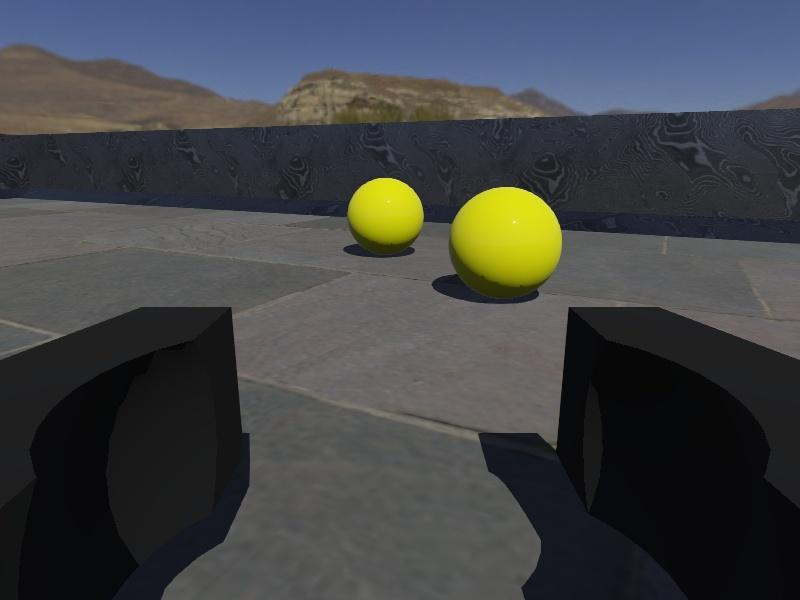yellow ball: (448, 185, 563, 302), (346, 177, 425, 258)
